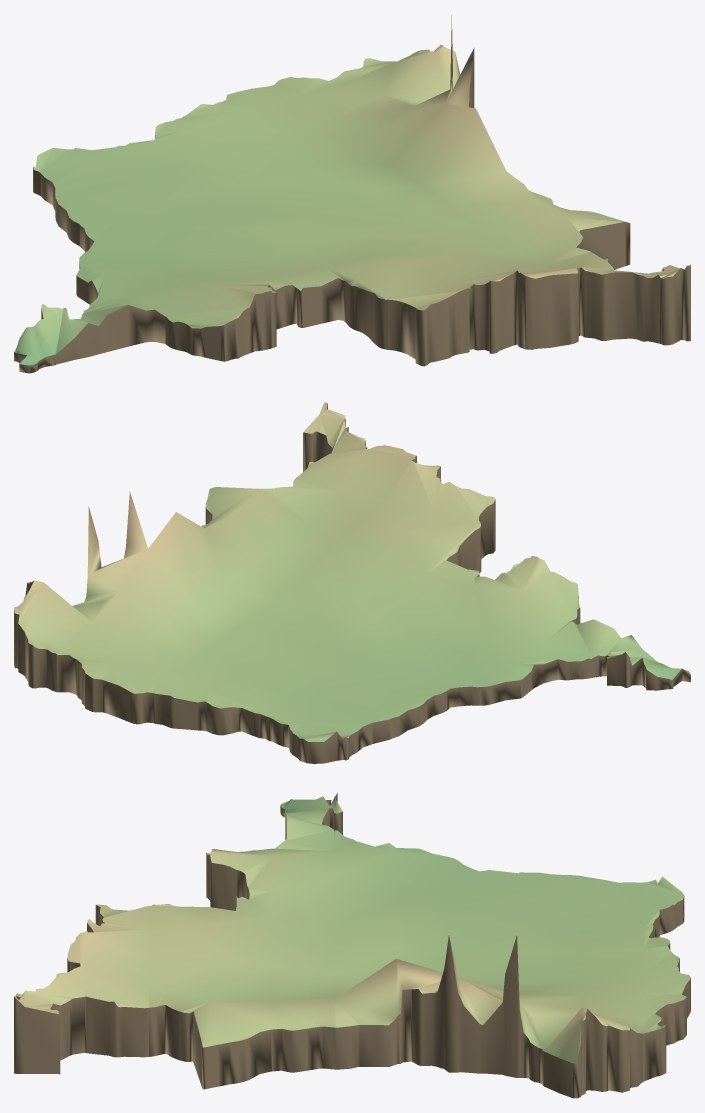
File: COD.glb
The picture shows the model from 3 angles, top to bottom: view 1: azimuth 30°, elevation 25°; view 2: azimuth 150°, elevation 25°; view 3: azimuth 270°, elevation 25°; orthographic projection. The views are drawn at different scales.
Parts seen in each view (by area): view 1: COD; view 2: COD; view 3: COD.
Part boxes in pixels (<box>): COD: <box>14,15,690,373</box>; COD: <box>14,402,690,763</box>; COD: <box>14,793,690,1098</box>.
Bounding box in the file's own units: 1.46 × 0.338 × 1.44.
